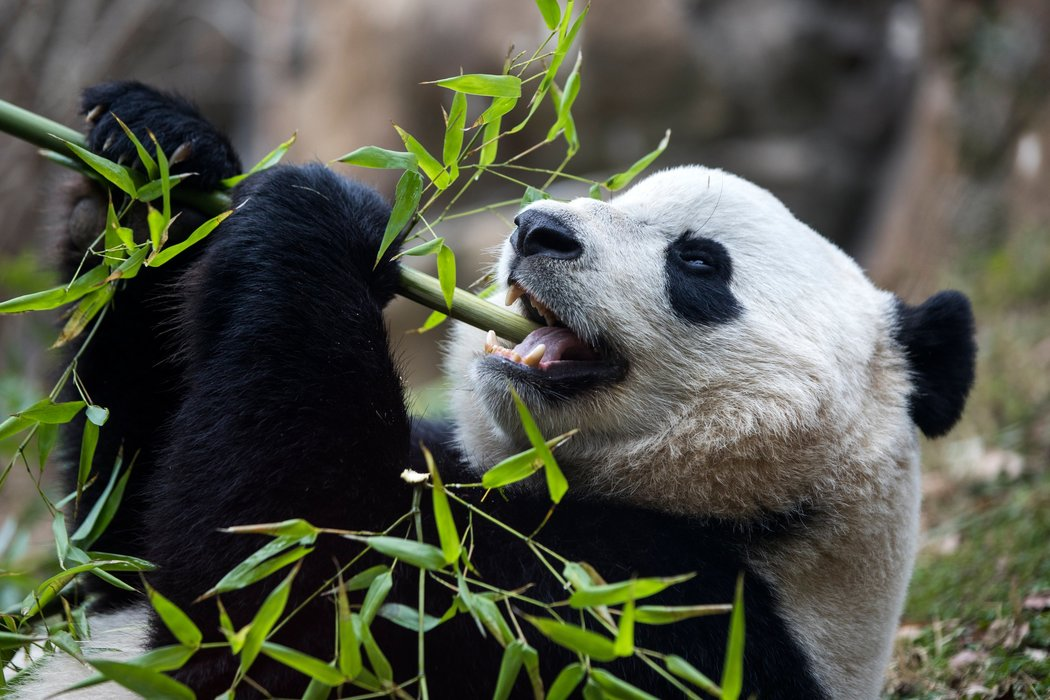panda: (48, 51, 983, 700)
